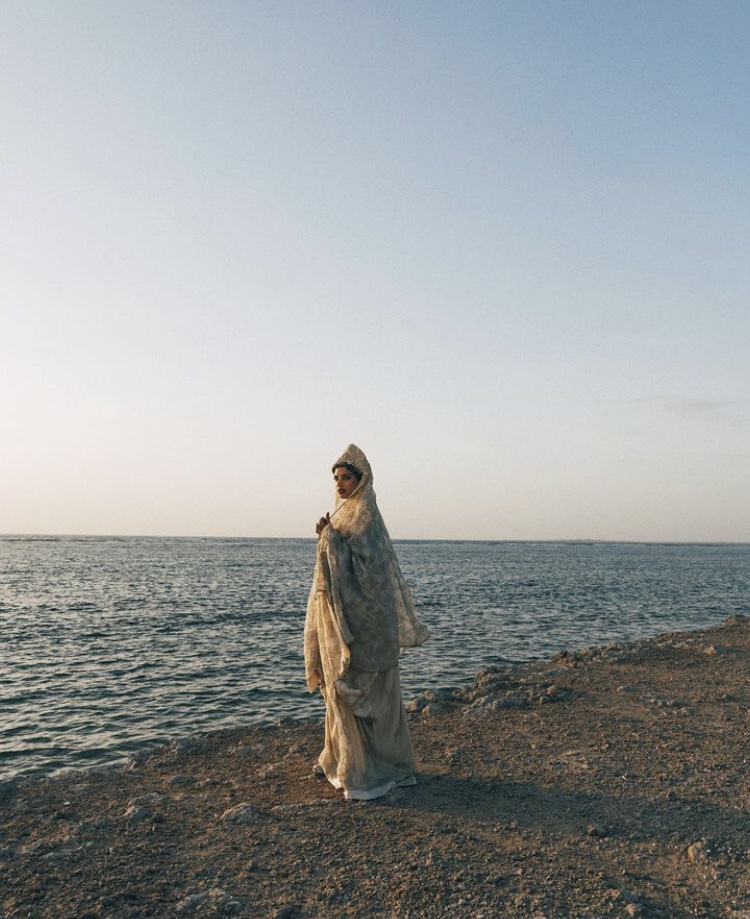Saudi_Founding_Day: (297, 439, 437, 805)
